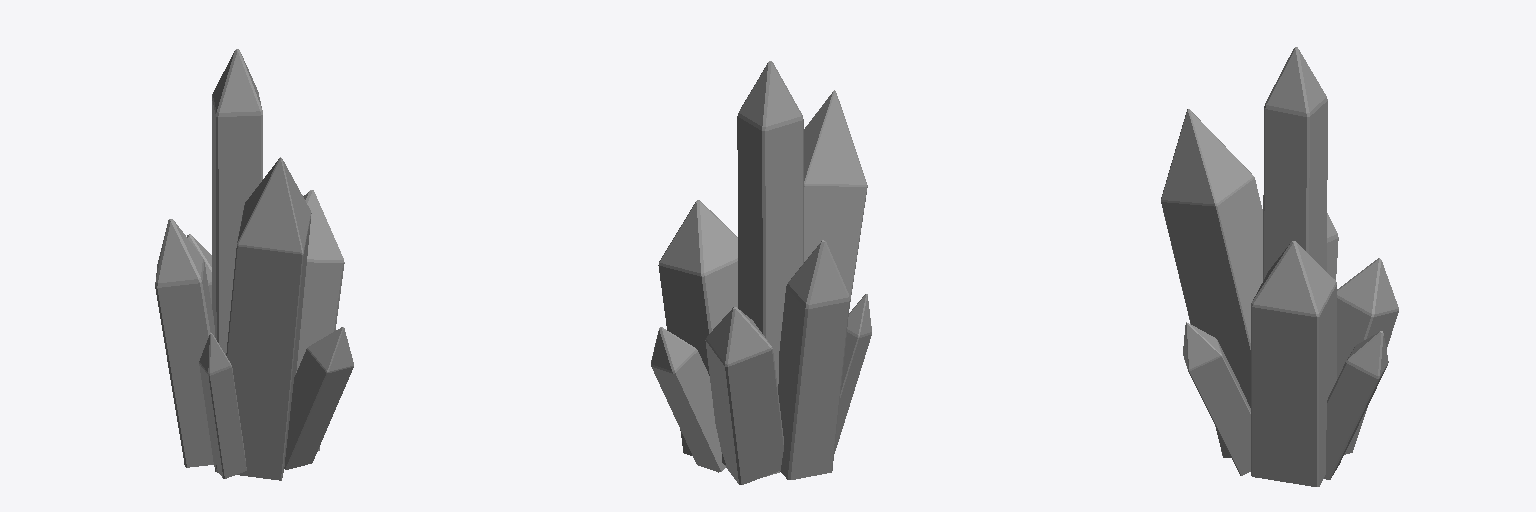
The model's file is celestial_prism.obj.
3 views of the same model, side by side, from view 1: azimuth 30°, elevation 25°; view 2: azimuth 150°, elevation 25°; view 3: azimuth 270°, elevation 25° (orthographic).
Parts seen in each view (by area): view 1: Crystal; view 2: Crystal; view 3: Crystal.
Boxes of the visible parts, box(x1,y1,x2,y2) form: Crystal: box(155, 49, 353, 480); Crystal: box(651, 61, 871, 484); Crystal: box(1161, 47, 1398, 486).
Bounding box in the file's own units: 0.4406 × 0.9386 × 0.4997.